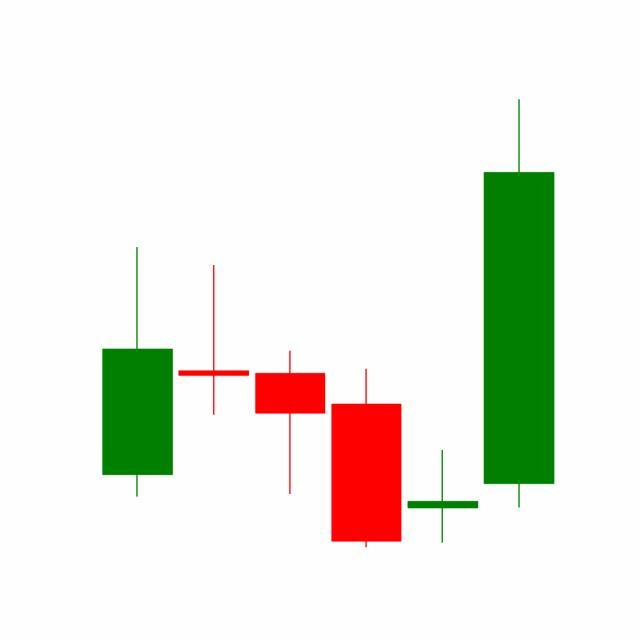Three Inside Up-Down: (326, 99, 555, 549)
